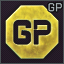GP coin: (0, 0, 64, 64)
